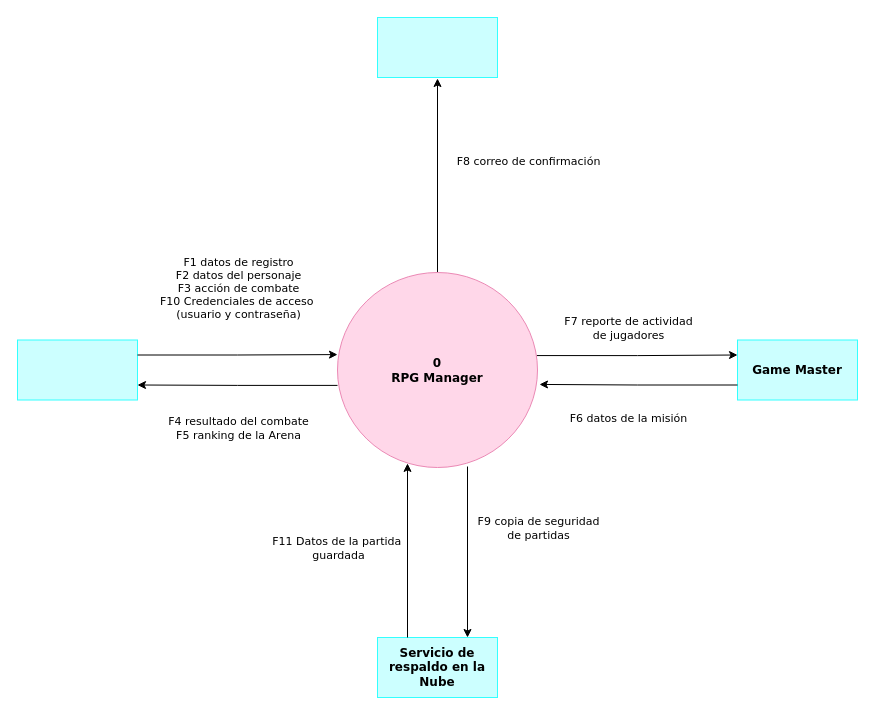
Image size: 875x715. Some labels were removed from this diagram. Here are the shapes that lost their labels. From the top down, the centre of each, then its label:
At (x=437, y=47): "Servicio de correo".
At (x=77, y=369): "Jugador".
